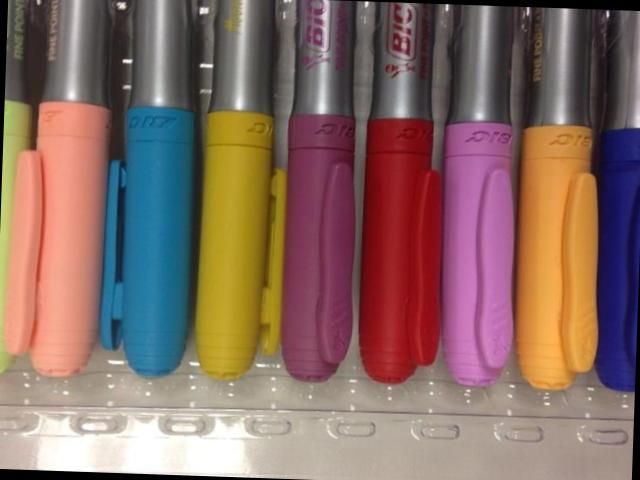PEN: (95, 0, 205, 381), (509, 7, 617, 393), (195, 0, 300, 385), (434, 6, 539, 389), (271, 0, 374, 387), (10, 0, 116, 374), (355, 3, 454, 382), (594, 14, 640, 386)
